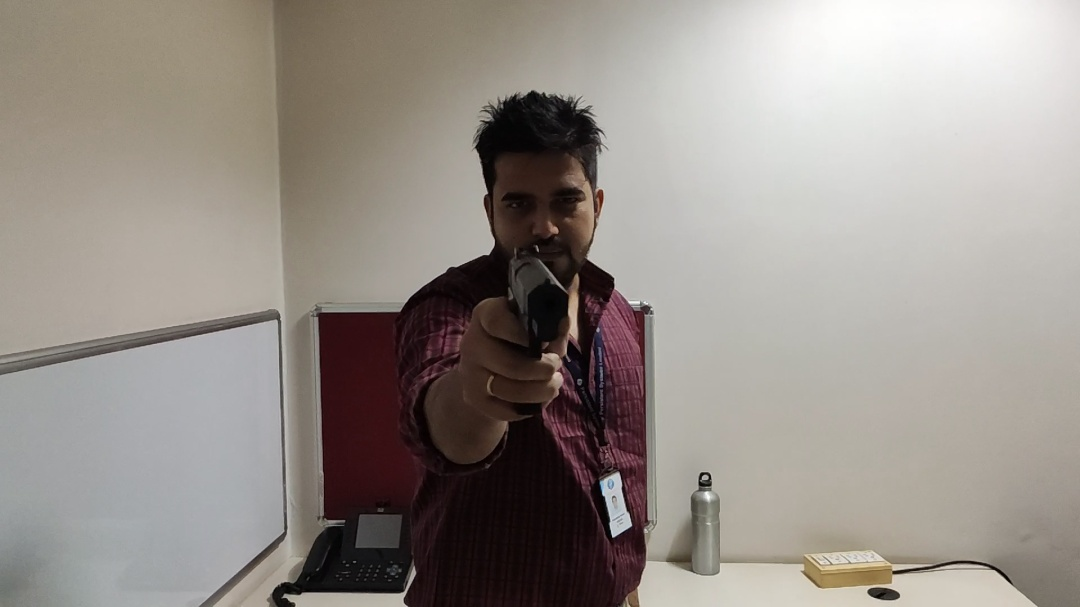gun: (492, 238, 578, 422)
